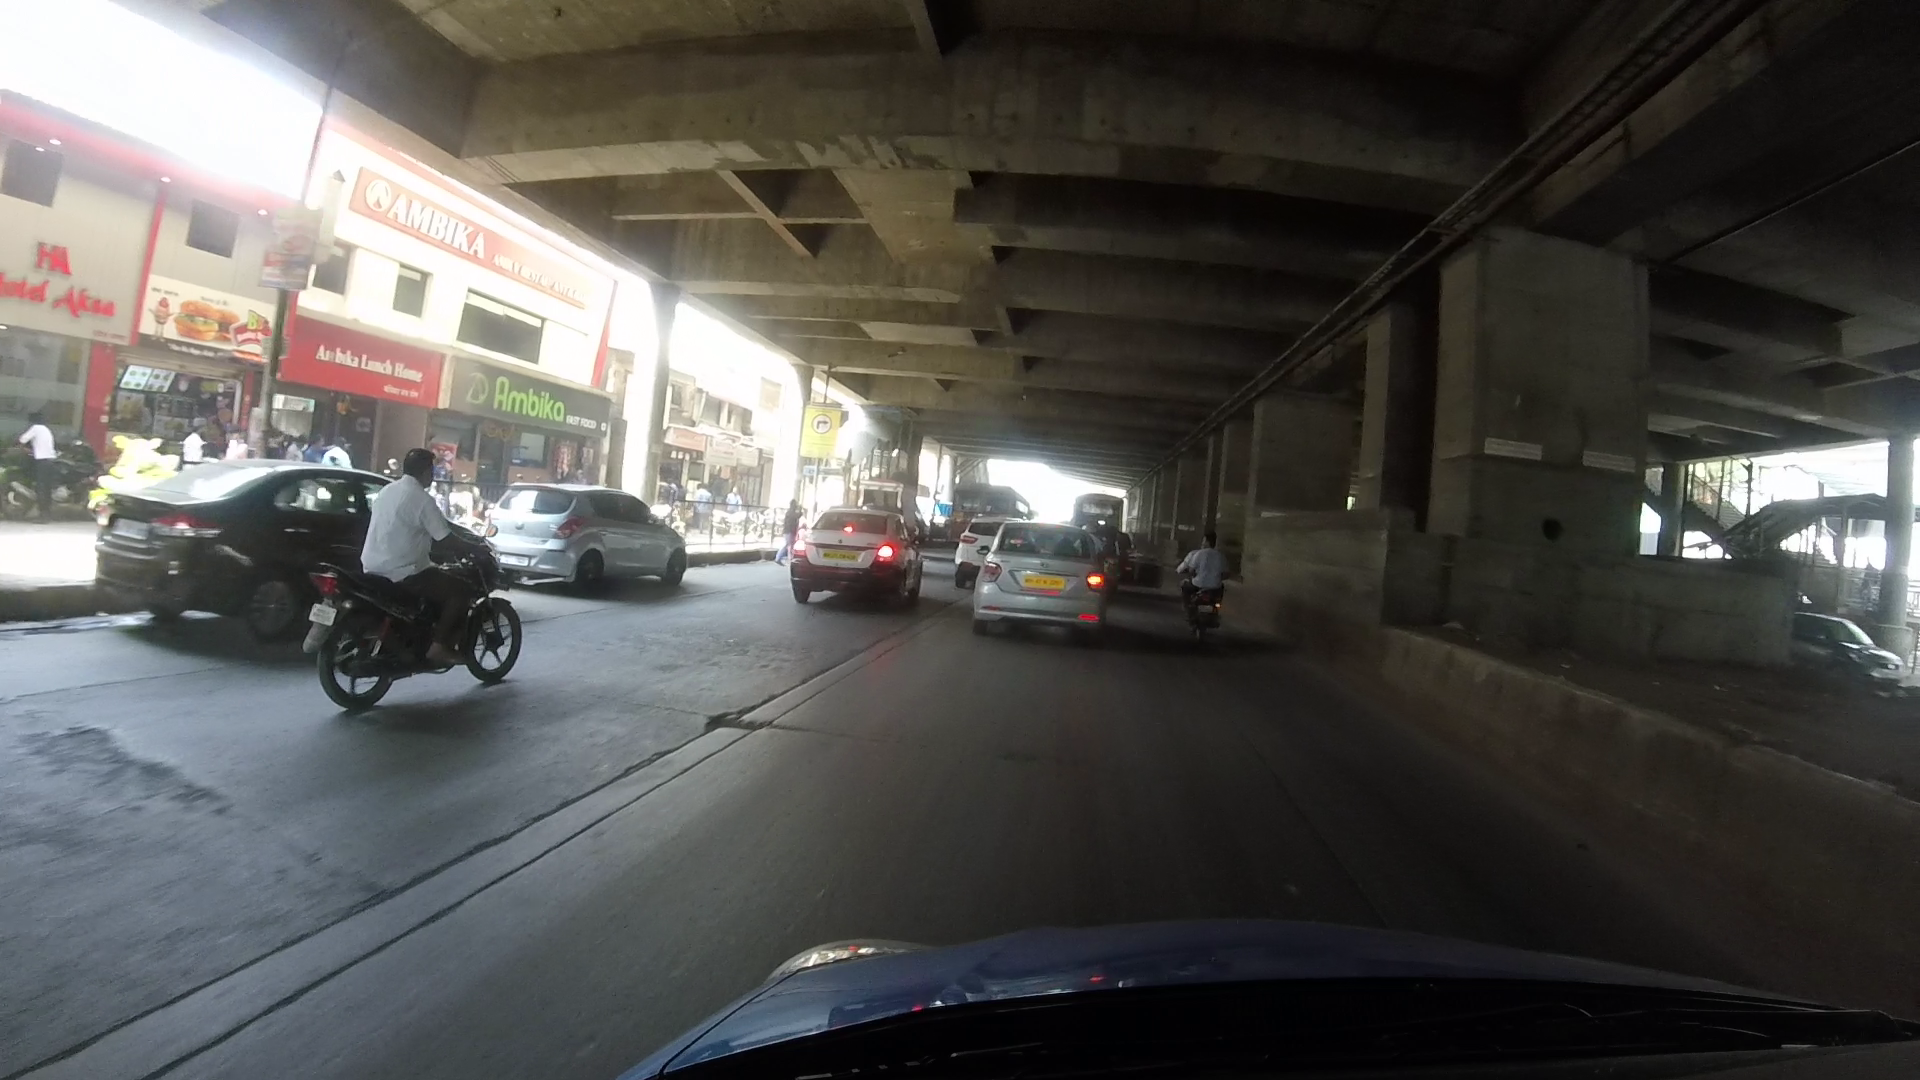car: (73, 451, 502, 645), (493, 472, 684, 595), (978, 522, 1125, 636), (796, 501, 913, 604)
